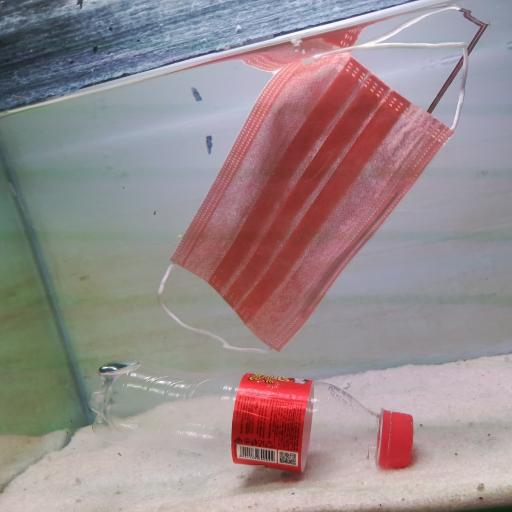bottle_cap: (378, 408, 420, 470)
mask: (162, 50, 478, 356)
plastic_bottle: (90, 363, 418, 483)
